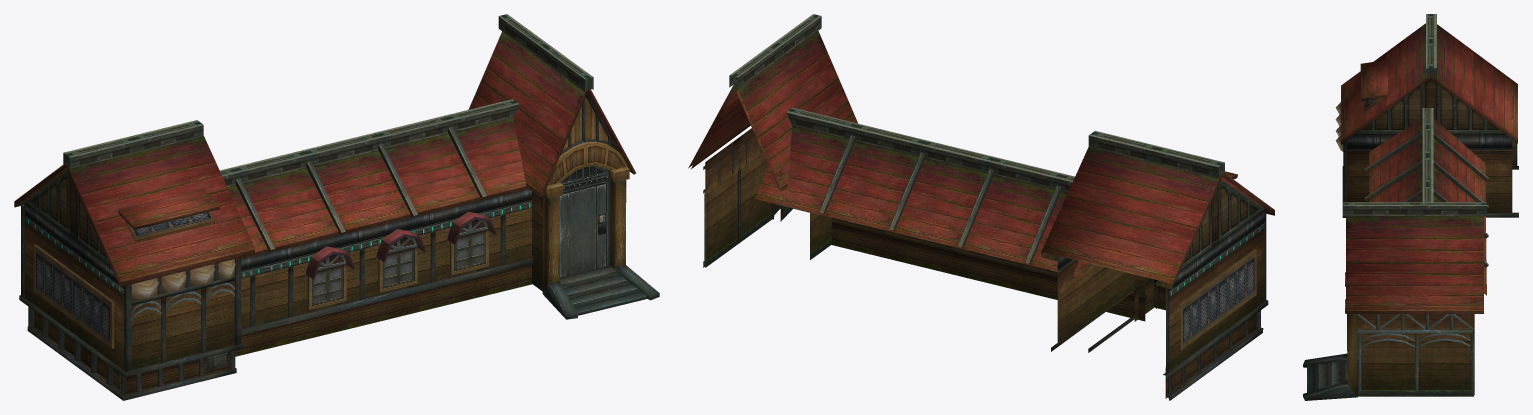
The model's file is yw_museyulin_zhujian01.FBX.
3 views of the same model, side by side, from view 1: azimuth 30°, elevation 25°; view 2: azimuth 150°, elevation 25°; view 3: azimuth 270°, elevation 25° (orthographic). The views are drawn at different scales.
Visible parts, largest first — view 1: yw_museyulin_zhujian01; view 2: yw_museyulin_zhujian01; view 3: yw_museyulin_zhujian01.
Part boxes in pixels (x1,y1,x2,y2): yw_museyulin_zhujian01: (14,14,659,400); yw_museyulin_zhujian01: (688,14,1274,400); yw_museyulin_zhujian01: (1303,14,1518,400).
Bounding box in the file's own units: 1493 × 587 × 646.
